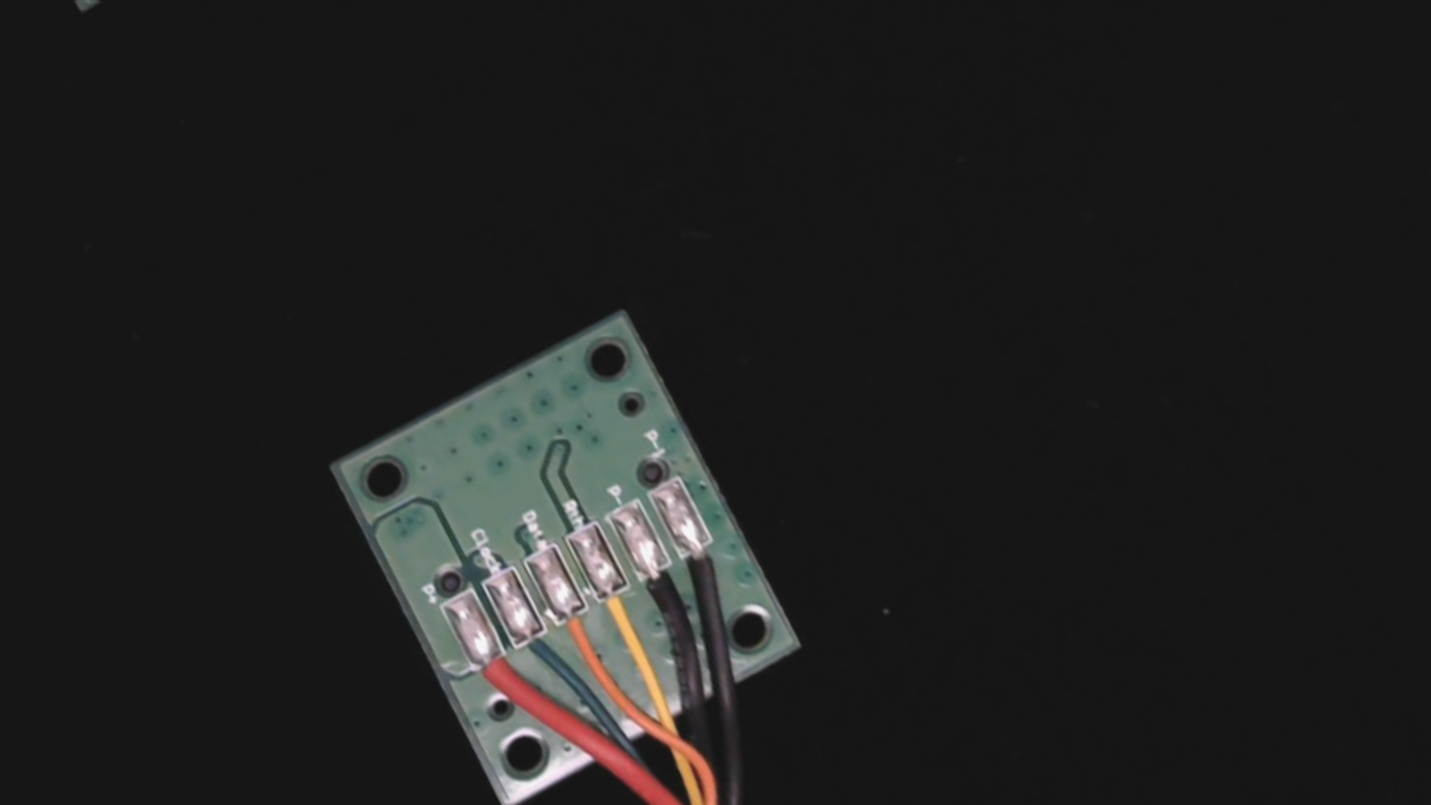Black: (619, 537, 707, 634)
Black1: (663, 517, 746, 608)
Green: (494, 598, 579, 692)
Orange: (537, 585, 622, 680)
Red: (455, 624, 540, 718)
Yellow: (580, 562, 668, 661)
